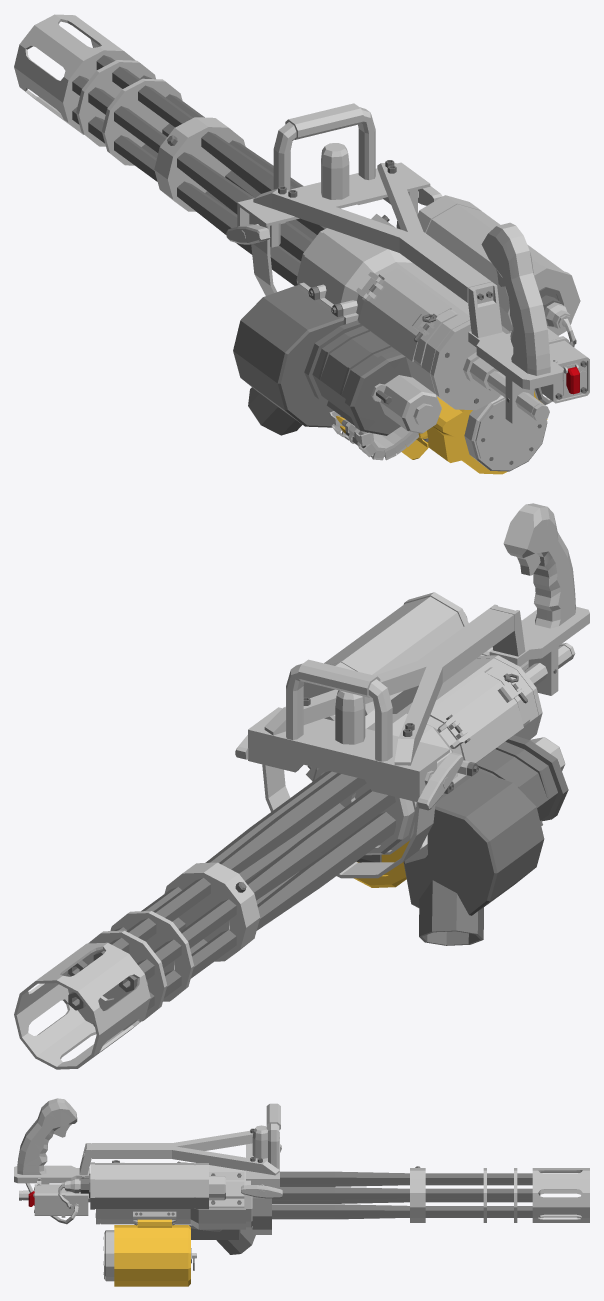
Rendered from Minigun_1.fbx.
3 views of the same model, one above another, from view 1: azimuth 30°, elevation 25°; view 2: azimuth 150°, elevation 25°; view 3: azimuth 270°, elevation 25° (orthographic). The views are drawn at different scales.
Parts seen in each view (by area): view 1: Object_169; view 2: Object_169; view 3: Object_169.
Part boxes in pixels (x1,y1,x2,y2): Object_169: (14,14,589,474); Object_169: (14,503,589,1069); Object_169: (14,1098,589,1286).
Size of the model in its own units: 202 by 258 by 779.
